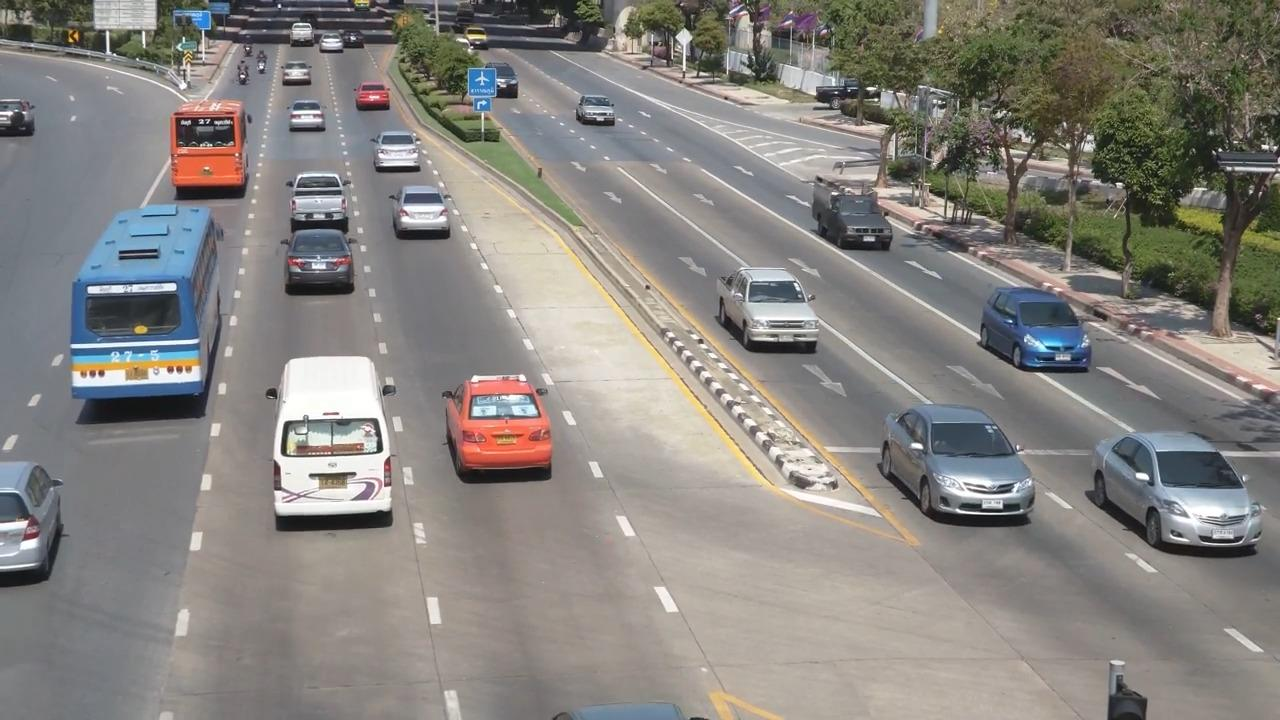CAR: (246, 344, 412, 546), (1087, 415, 1261, 556), (878, 394, 1043, 528), (441, 369, 558, 502), (968, 270, 1104, 380), (706, 243, 829, 361), (795, 169, 909, 269), (267, 221, 382, 320), (0, 454, 73, 589), (266, 156, 369, 246), (388, 173, 468, 241), (370, 127, 438, 186), (279, 92, 339, 148), (558, 84, 622, 135), (0, 85, 45, 152), (482, 52, 530, 104), (270, 10, 325, 54), (355, 71, 406, 118), (271, 56, 323, 100), (335, 25, 374, 61), (313, 32, 349, 62)
HGV_BUS: (56, 202, 231, 440), (150, 92, 266, 210)
MOTOR: (248, 48, 278, 89), (229, 57, 253, 90)
